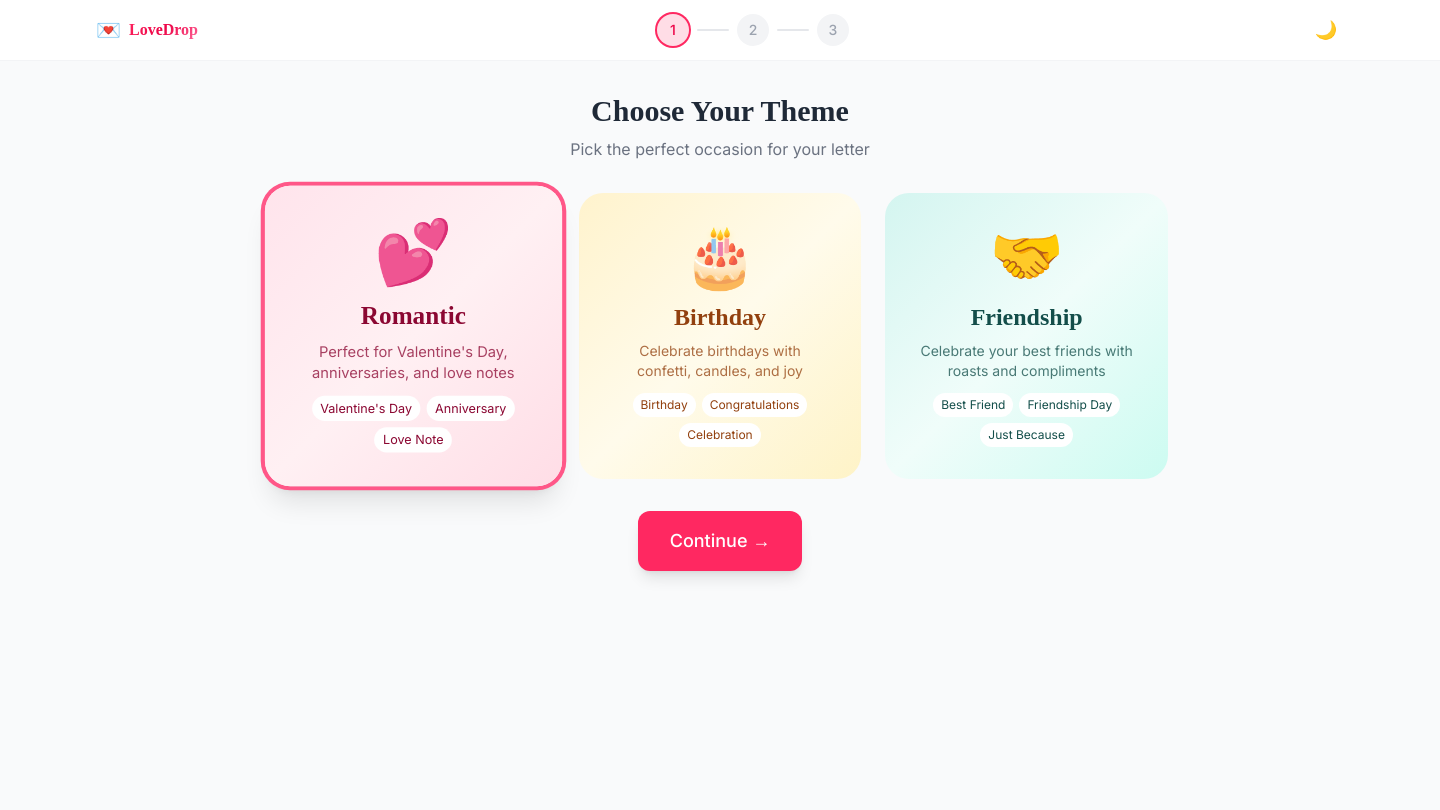
Test: Create flow - Step 2: Letter editing › has sound and music toggles
Step 1. Click the button "Continue →" → [720, 541], box [638, 511, 802, 571]
(page scrolled)
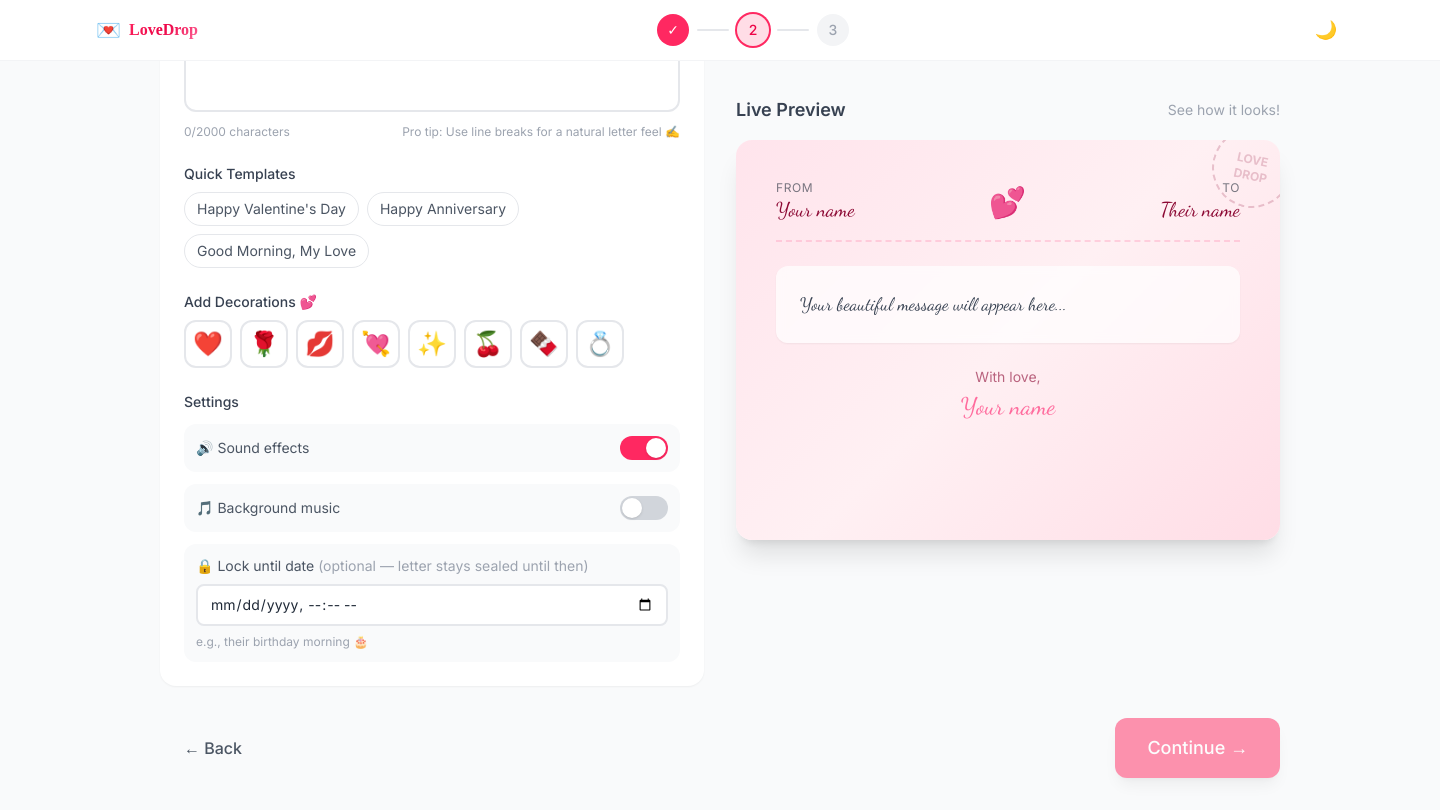
Check: the text "🔊 Sound effects" is shown, box [196, 438, 309, 458]
Check: the text "🎵 Background music" is shown, box [196, 498, 340, 518]
